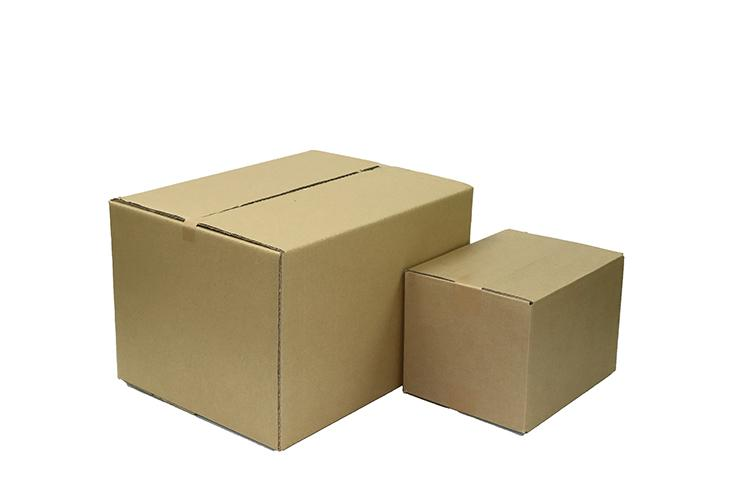box: (110, 150, 475, 453)
